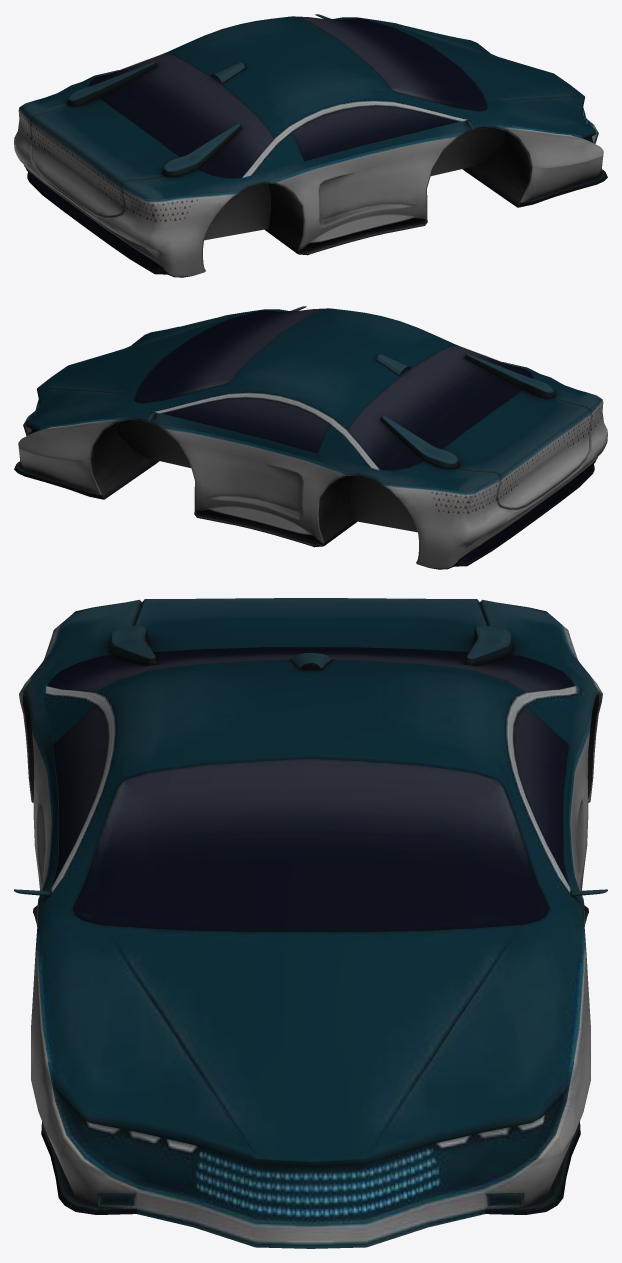
File: f1_car_mercedes_05.dae
3 views of the same model, one above another, from view 1: azimuth 30°, elevation 25°; view 2: azimuth 150°, elevation 25°; view 3: azimuth 270°, elevation 25° (orthographic). The views are drawn at different scales.
Visible parts, largest first — view 1: car_body; view 2: car_body; view 3: car_body.
Boxes of the visible parts, box(x1,y1,x2,y2) form: car_body: box(14, 14, 607, 277); car_body: box(14, 306, 607, 569); car_body: box(14, 598, 607, 1248).
Bounding box in the file's own units: 0.3658 × 0.1927 × 0.0974.
Materials: 1 (1 with a texture image).
